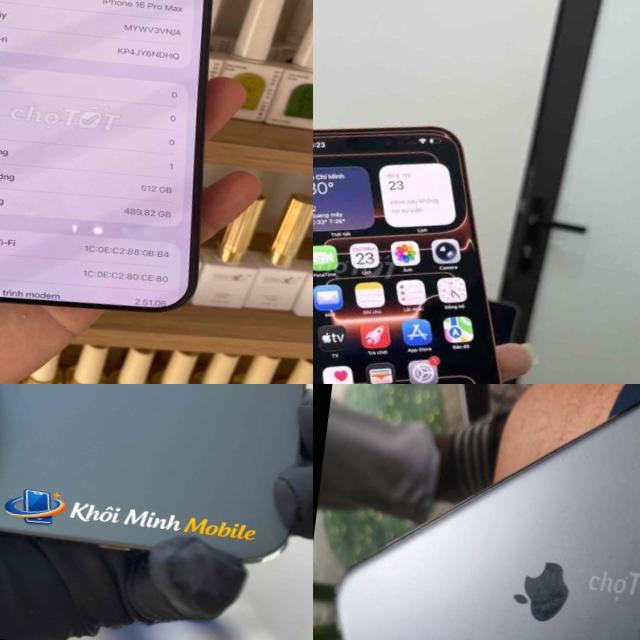gen_11: (335, 402, 640, 640)
gen_14: (0, 384, 313, 570)
gen_16: (0, 0, 258, 324)
gen_17: (313, 106, 562, 384)
